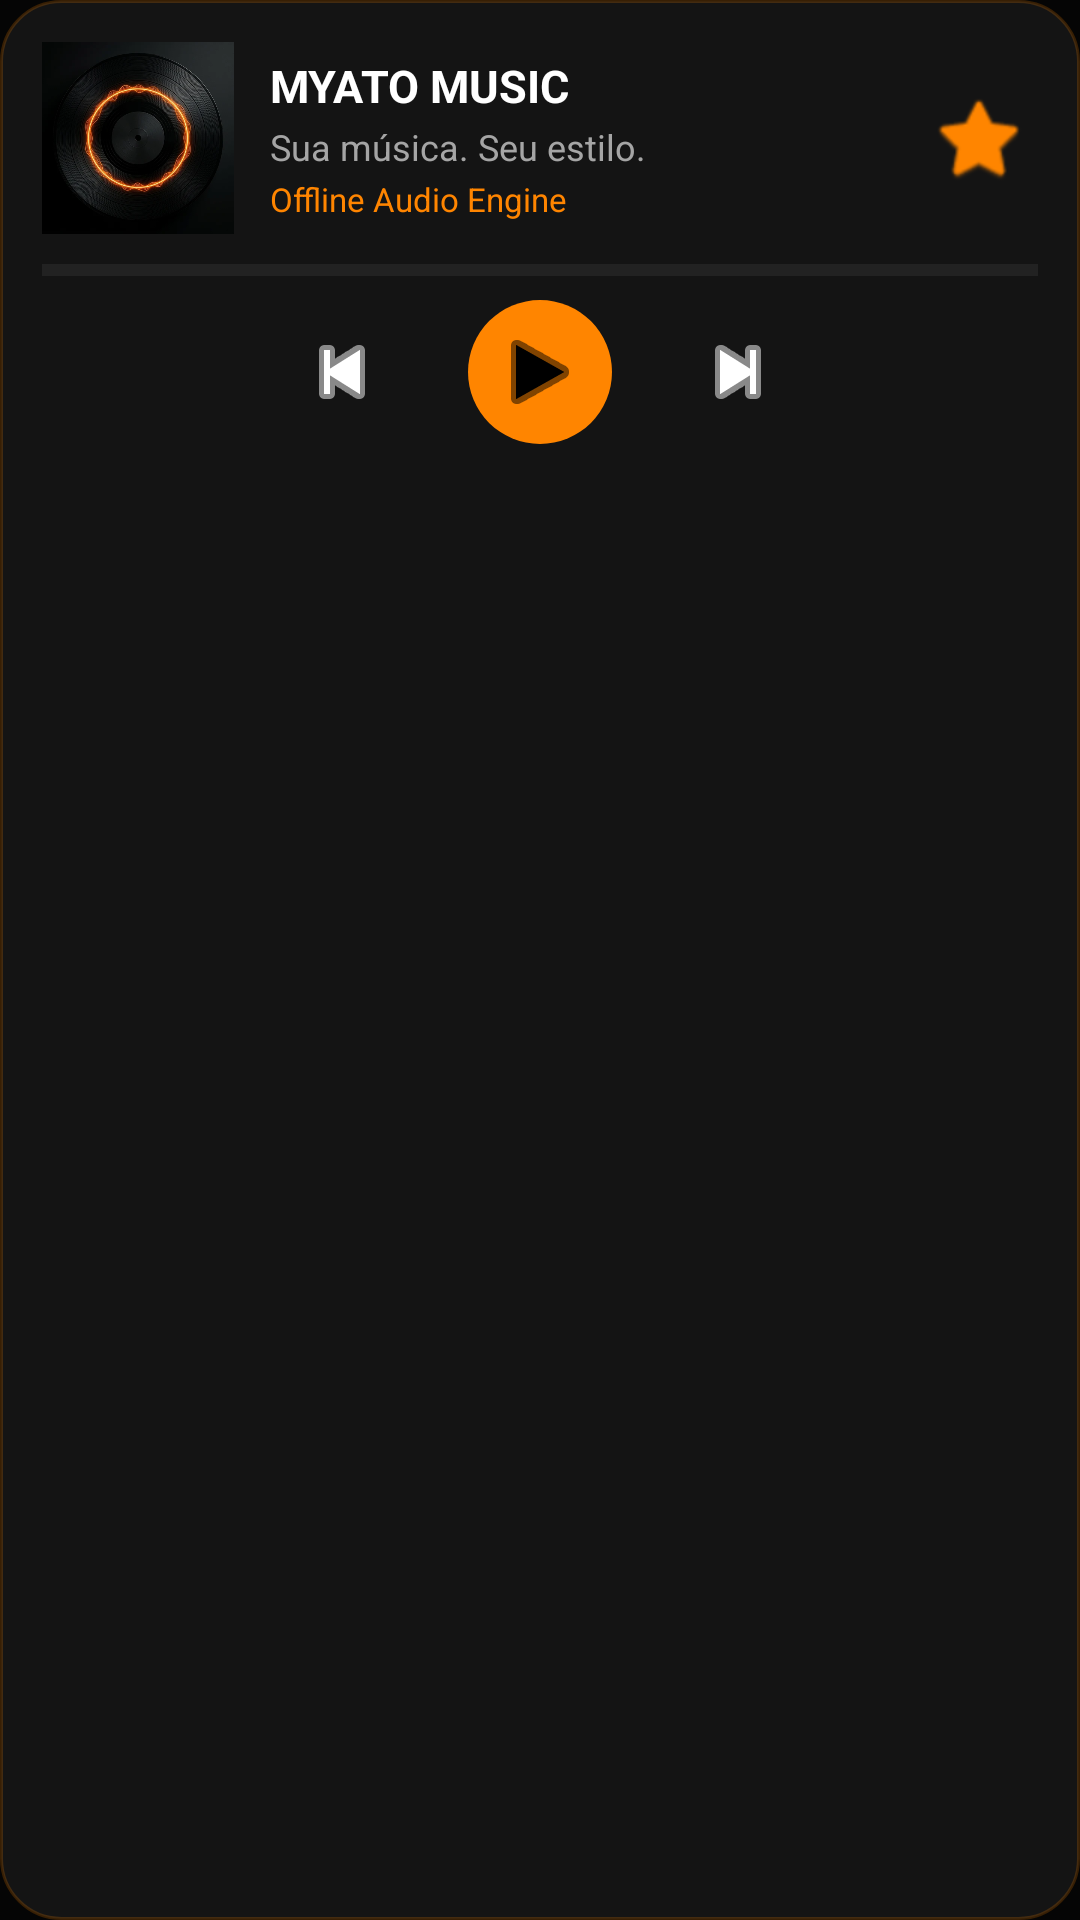

Icons on this 1080px×1920px Android screen, each with its box as (x1, y1, x2, y2):
Capa do álbum: (42, 42, 234, 234)
Favoritar música: (939, 100, 1019, 178)
Música anterior: (319, 345, 365, 399)
Próxima música: (715, 345, 761, 399)
Reproduzir ou pausar: (468, 300, 612, 444)
